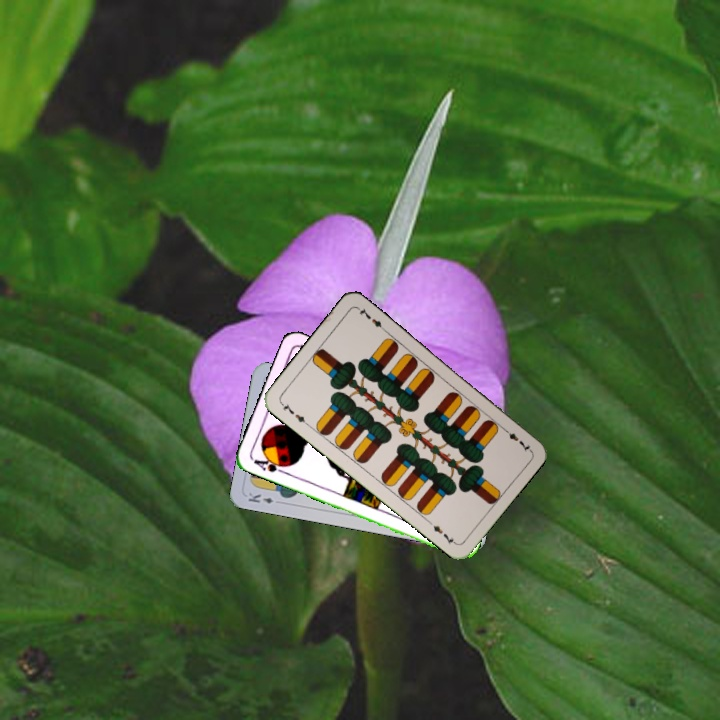E7: (498, 424, 533, 454), (277, 399, 311, 428)
EK: (244, 488, 276, 506)
SA: (249, 453, 291, 476)
